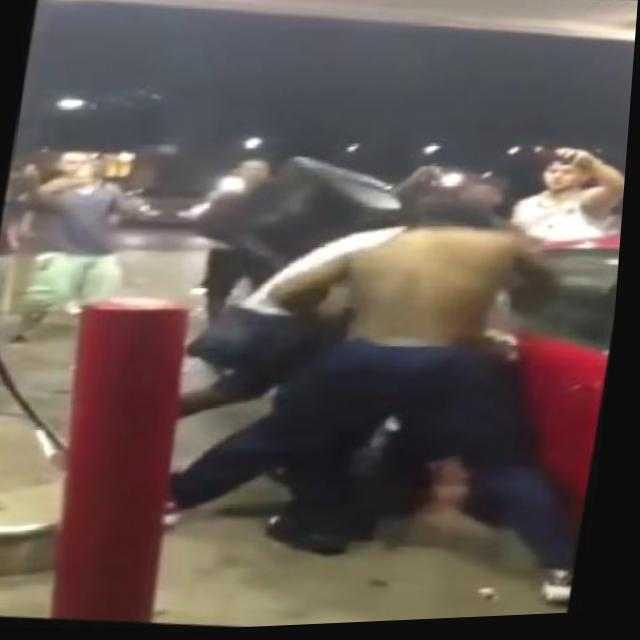fight: (160, 196, 550, 538)
